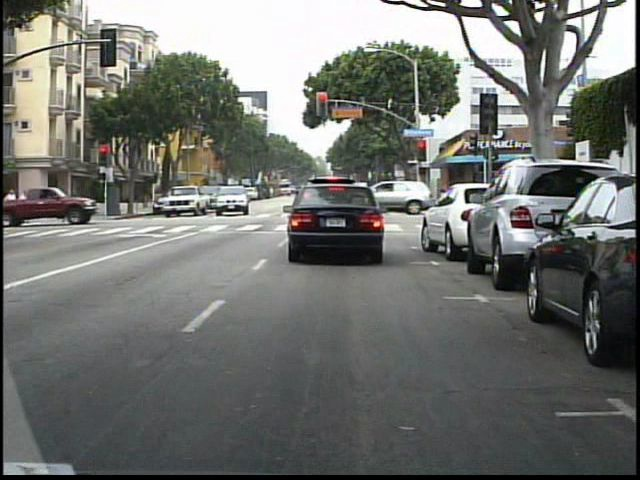person: (19, 186, 37, 225), (3, 185, 20, 226)
